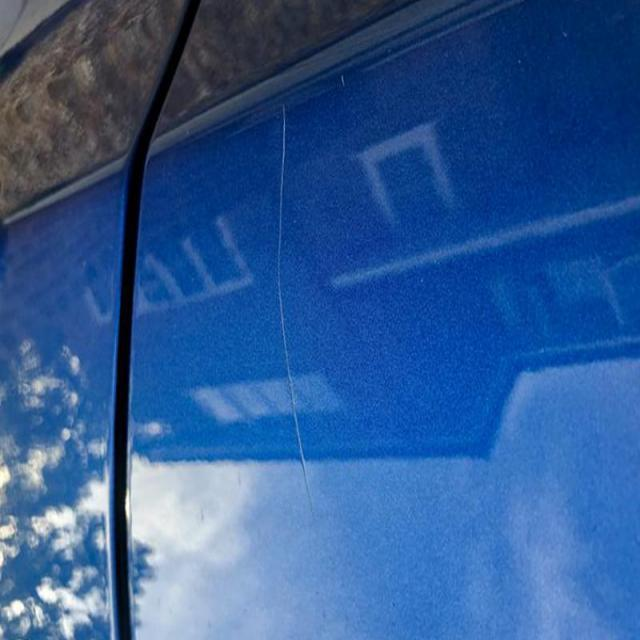scratch: (266, 98, 324, 529)
